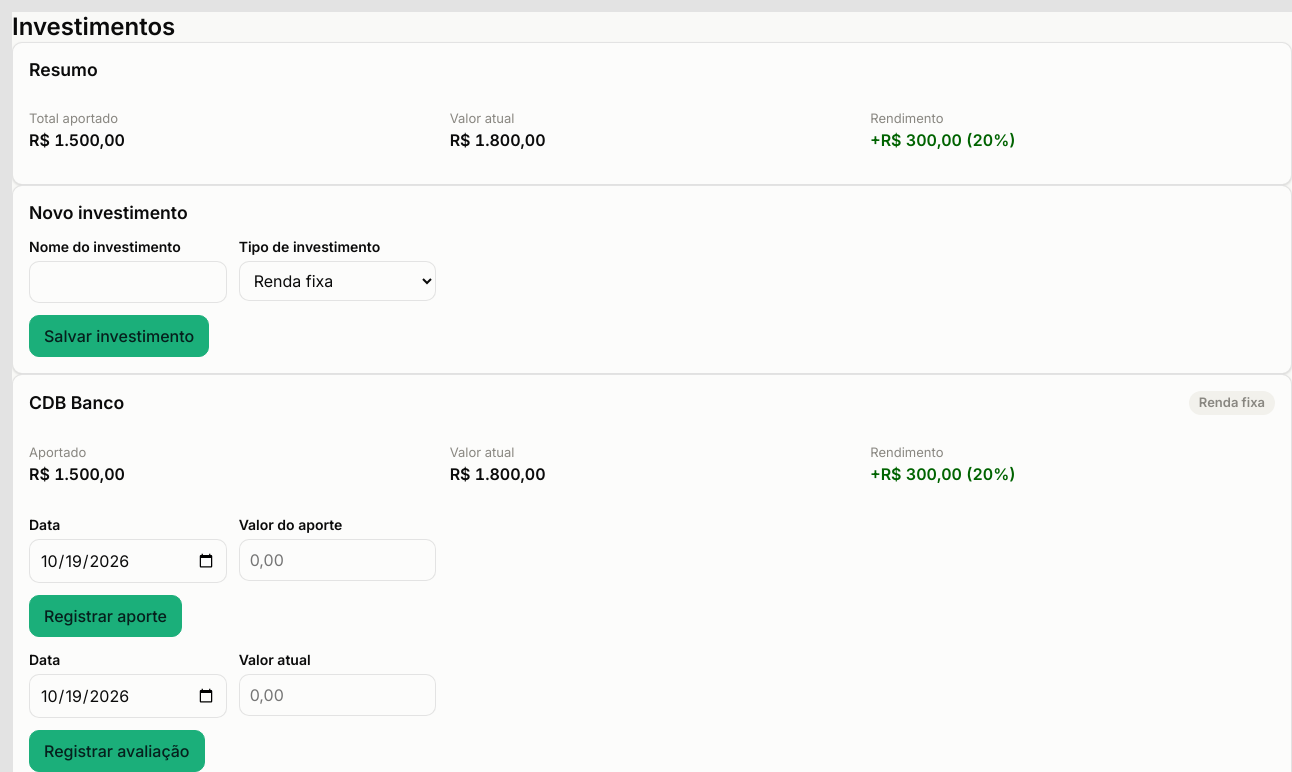
it: InvestmentsPage › rejects an invalid contribution amount inline
Step 1. Click the button "Registrar aporte" → (106, 616), box [29, 596, 182, 638]
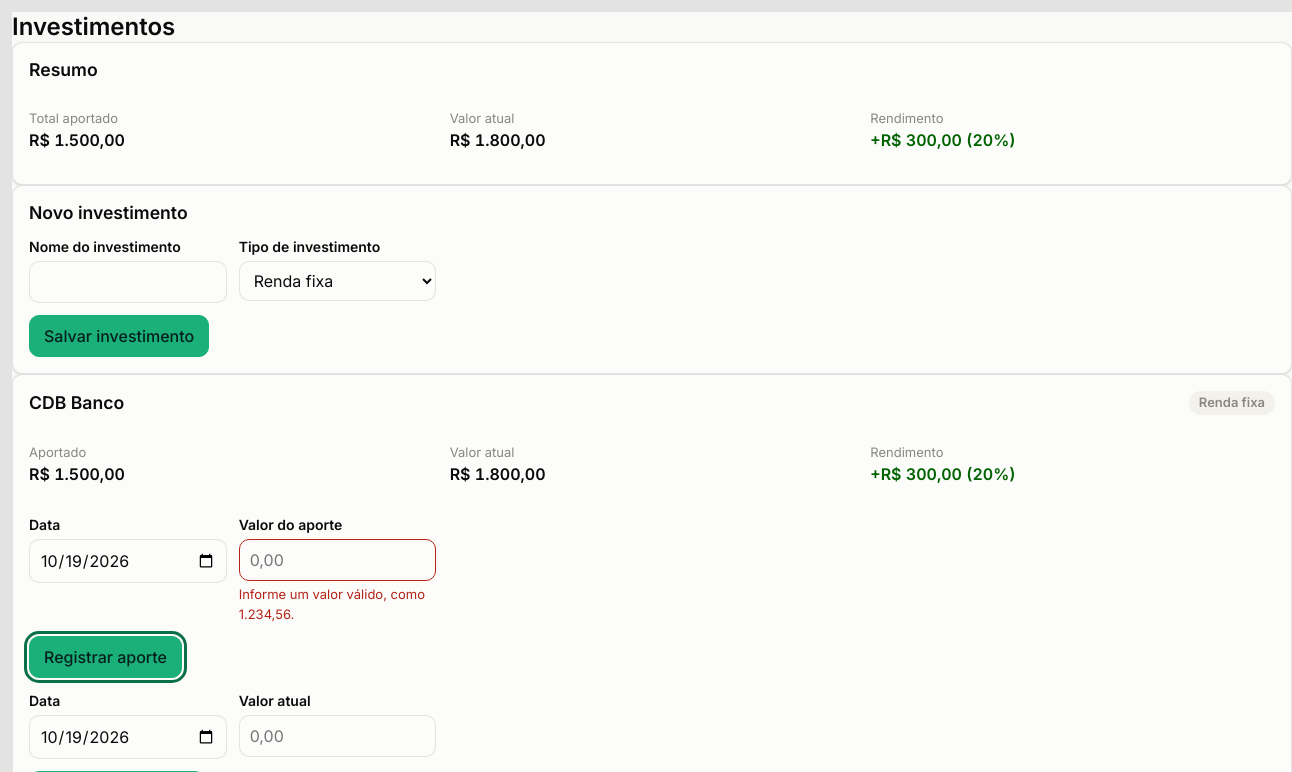
Expected: the text "Informe um valor válido, como 1.234,56." is shown, [239, 586, 436, 624]
